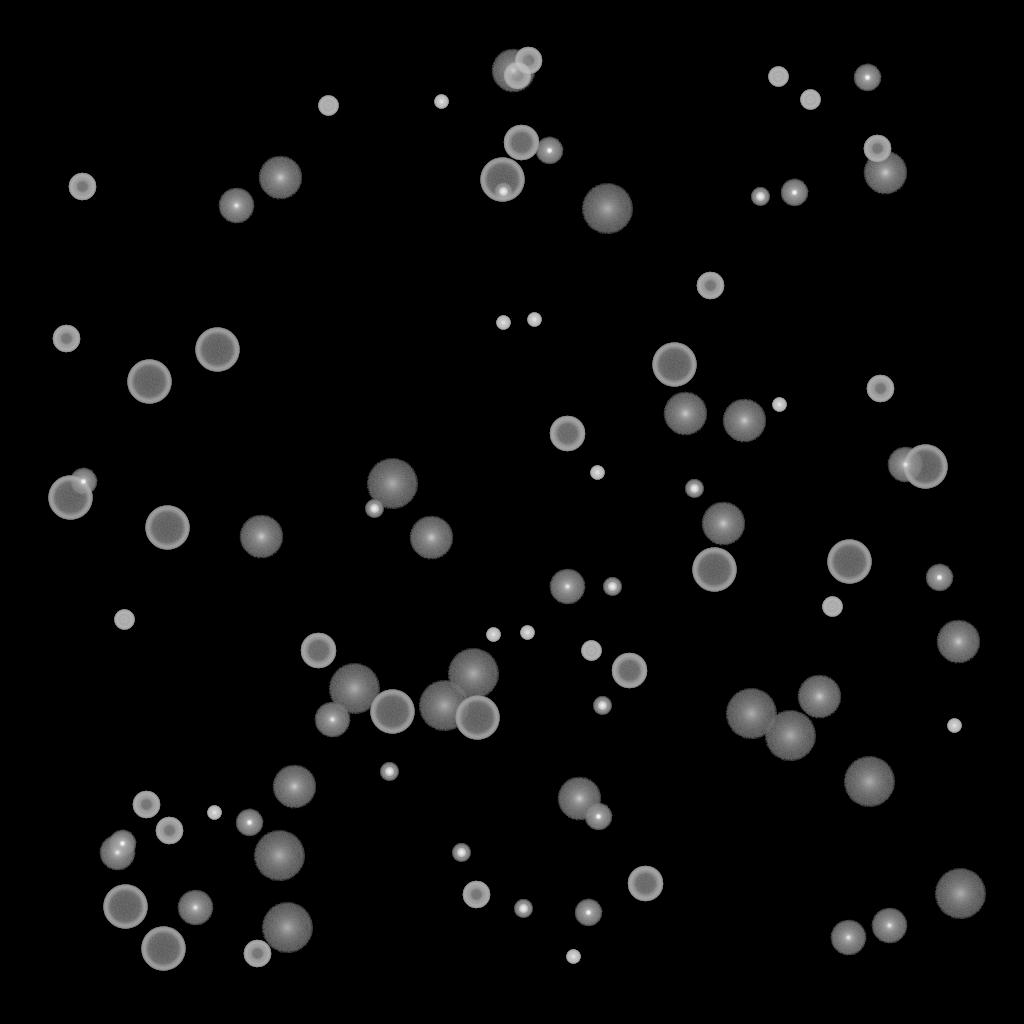depth:-10: (108, 830, 136, 858), (574, 899, 602, 927), (584, 803, 612, 831), (69, 468, 97, 496), (925, 564, 953, 592), (235, 809, 263, 837), (780, 179, 808, 207), (535, 137, 563, 165), (853, 64, 881, 92)
depth:-20: (685, 480, 703, 498), (494, 183, 512, 201), (365, 500, 383, 518), (593, 697, 611, 715), (452, 844, 470, 862), (514, 900, 532, 918), (603, 578, 621, 596), (751, 188, 769, 206), (380, 763, 398, 781)
depth:-30: (566, 950, 580, 964), (486, 628, 500, 642), (590, 466, 604, 480), (434, 95, 448, 109), (772, 398, 786, 412), (520, 626, 534, 640), (947, 719, 961, 733), (207, 806, 221, 820), (496, 316, 510, 330), (527, 313, 541, 327)
depth:-40: (768, 67, 788, 87), (114, 610, 134, 630), (581, 641, 601, 661), (800, 90, 820, 110), (822, 597, 842, 617), (318, 96, 338, 116)
depth:-50: (52, 325, 80, 353), (155, 817, 183, 845), (462, 881, 490, 909), (503, 62, 531, 90), (243, 940, 271, 968), (696, 272, 724, 300), (514, 47, 542, 75), (866, 375, 894, 403), (68, 173, 96, 201), (863, 135, 891, 163), (132, 791, 160, 819)
depth:-60: (503, 125, 539, 161), (549, 416, 585, 452), (627, 866, 663, 902), (300, 633, 336, 669), (611, 653, 647, 689)
depth:-70: (480, 158, 524, 202), (127, 360, 171, 404), (103, 885, 147, 929), (455, 696, 499, 740), (827, 540, 871, 584), (195, 328, 239, 372), (652, 343, 696, 387), (141, 927, 185, 971), (903, 445, 947, 489), (145, 506, 189, 550), (692, 548, 736, 592), (48, 476, 92, 520), (370, 690, 414, 734)
depth:0: (887, 447, 923, 483), (830, 920, 866, 956), (871, 908, 907, 944), (549, 569, 585, 605), (177, 890, 213, 926), (218, 188, 254, 224), (99, 835, 135, 871), (314, 702, 350, 738)
depth:10: (863, 151, 907, 195), (797, 675, 841, 719), (663, 392, 707, 436), (557, 777, 601, 821), (936, 620, 980, 664), (491, 49, 535, 93), (722, 399, 766, 443), (272, 765, 316, 809), (239, 515, 283, 559), (258, 156, 302, 200), (701, 502, 745, 546), (409, 516, 453, 560)
depth:20: (764, 711, 816, 761), (581, 184, 633, 234), (934, 869, 986, 919), (725, 689, 777, 739), (418, 681, 470, 731), (328, 664, 380, 714), (366, 459, 418, 509), (447, 649, 499, 699), (843, 757, 895, 807), (261, 903, 313, 953), (253, 831, 305, 881)
